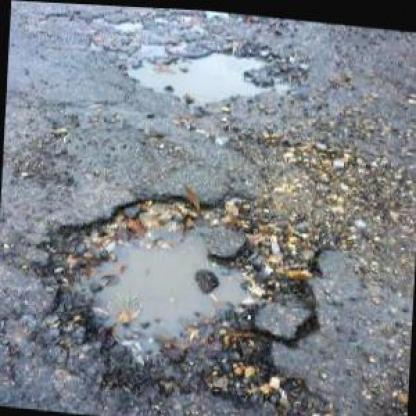pothole: (23, 180, 342, 415), (115, 29, 308, 112)
